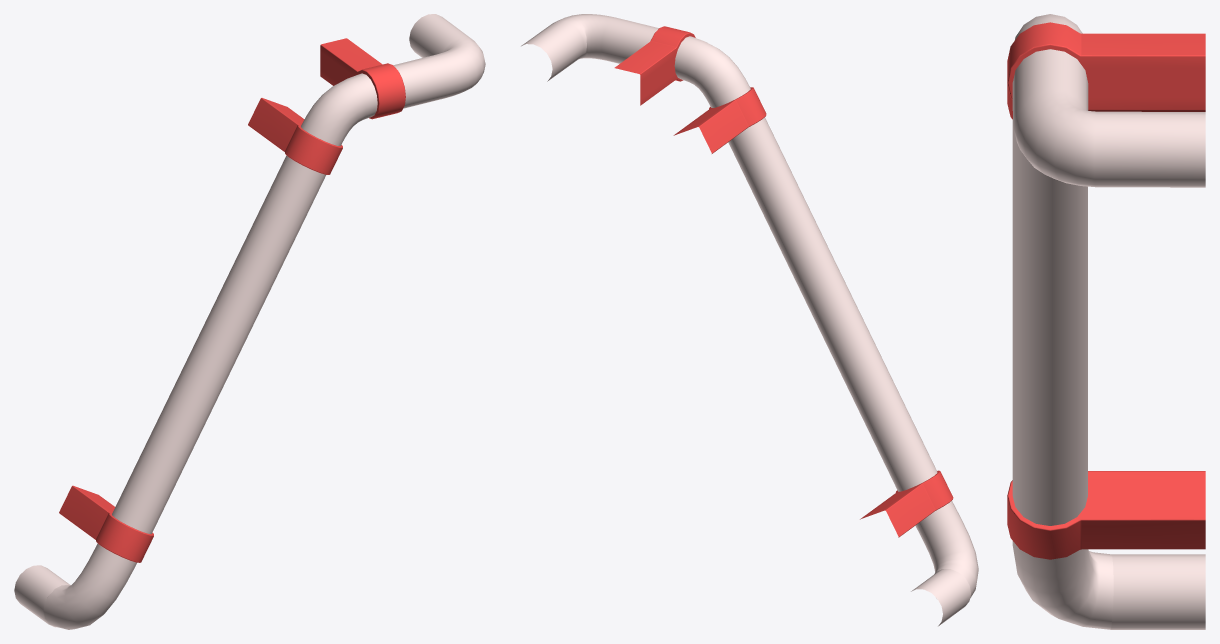
Rendered from City_19_Pipe_1.glb.
The picture shows the model from 3 angles, left to right: view 1: azimuth 30°, elevation 25°; view 2: azimuth 150°, elevation 25°; view 3: azimuth 270°, elevation 25°; orthographic projection. The views are drawn at different scales.
Parts seen in each view (by area): view 1: City_19_Pipe_1; view 2: City_19_Pipe_1; view 3: City_19_Pipe_1.
Part boxes in pixels (x1=…): City_19_Pipe_1: x1=14, y1=14, x2=485, y2=629; City_19_Pipe_1: x1=521, y1=14, x2=978, y2=626; City_19_Pipe_1: x1=1007, y1=14, x2=1205, y2=629.
Size of the model in its own units: 4.15 by 4.56 by 0.9758.
Materials: 1 (1 with a texture image).
